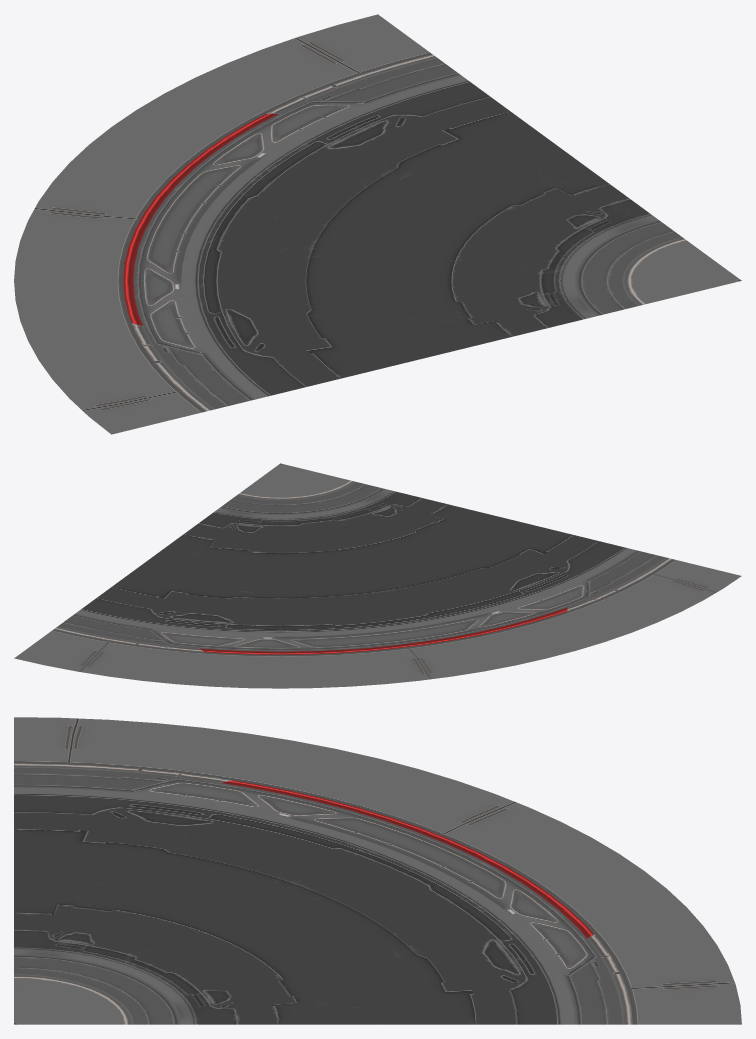
The model's file is Platform_CenterPlate_Curve.gltf.
3 renders of one model, top to bottom at view 1: azimuth 30°, elevation 25°; view 2: azimuth 150°, elevation 25°; view 3: azimuth 270°, elevation 25°, orthographic. The views are drawn at different scales.
Parts seen in each view (by area): view 1: Platform_CenterPlate_Curve; view 2: Platform_CenterPlate_Curve; view 3: Platform_CenterPlate_Curve.
Boxes of the visible parts, <box> form: Platform_CenterPlate_Curve: <box>14,14,741,434</box>; Platform_CenterPlate_Curve: <box>14,463,741,688</box>; Platform_CenterPlate_Curve: <box>14,717,741,1024</box>.
Size of the model in its own units: 4 by 2.84e-14 by 4.
Materials: 2 (2 with a texture image).
